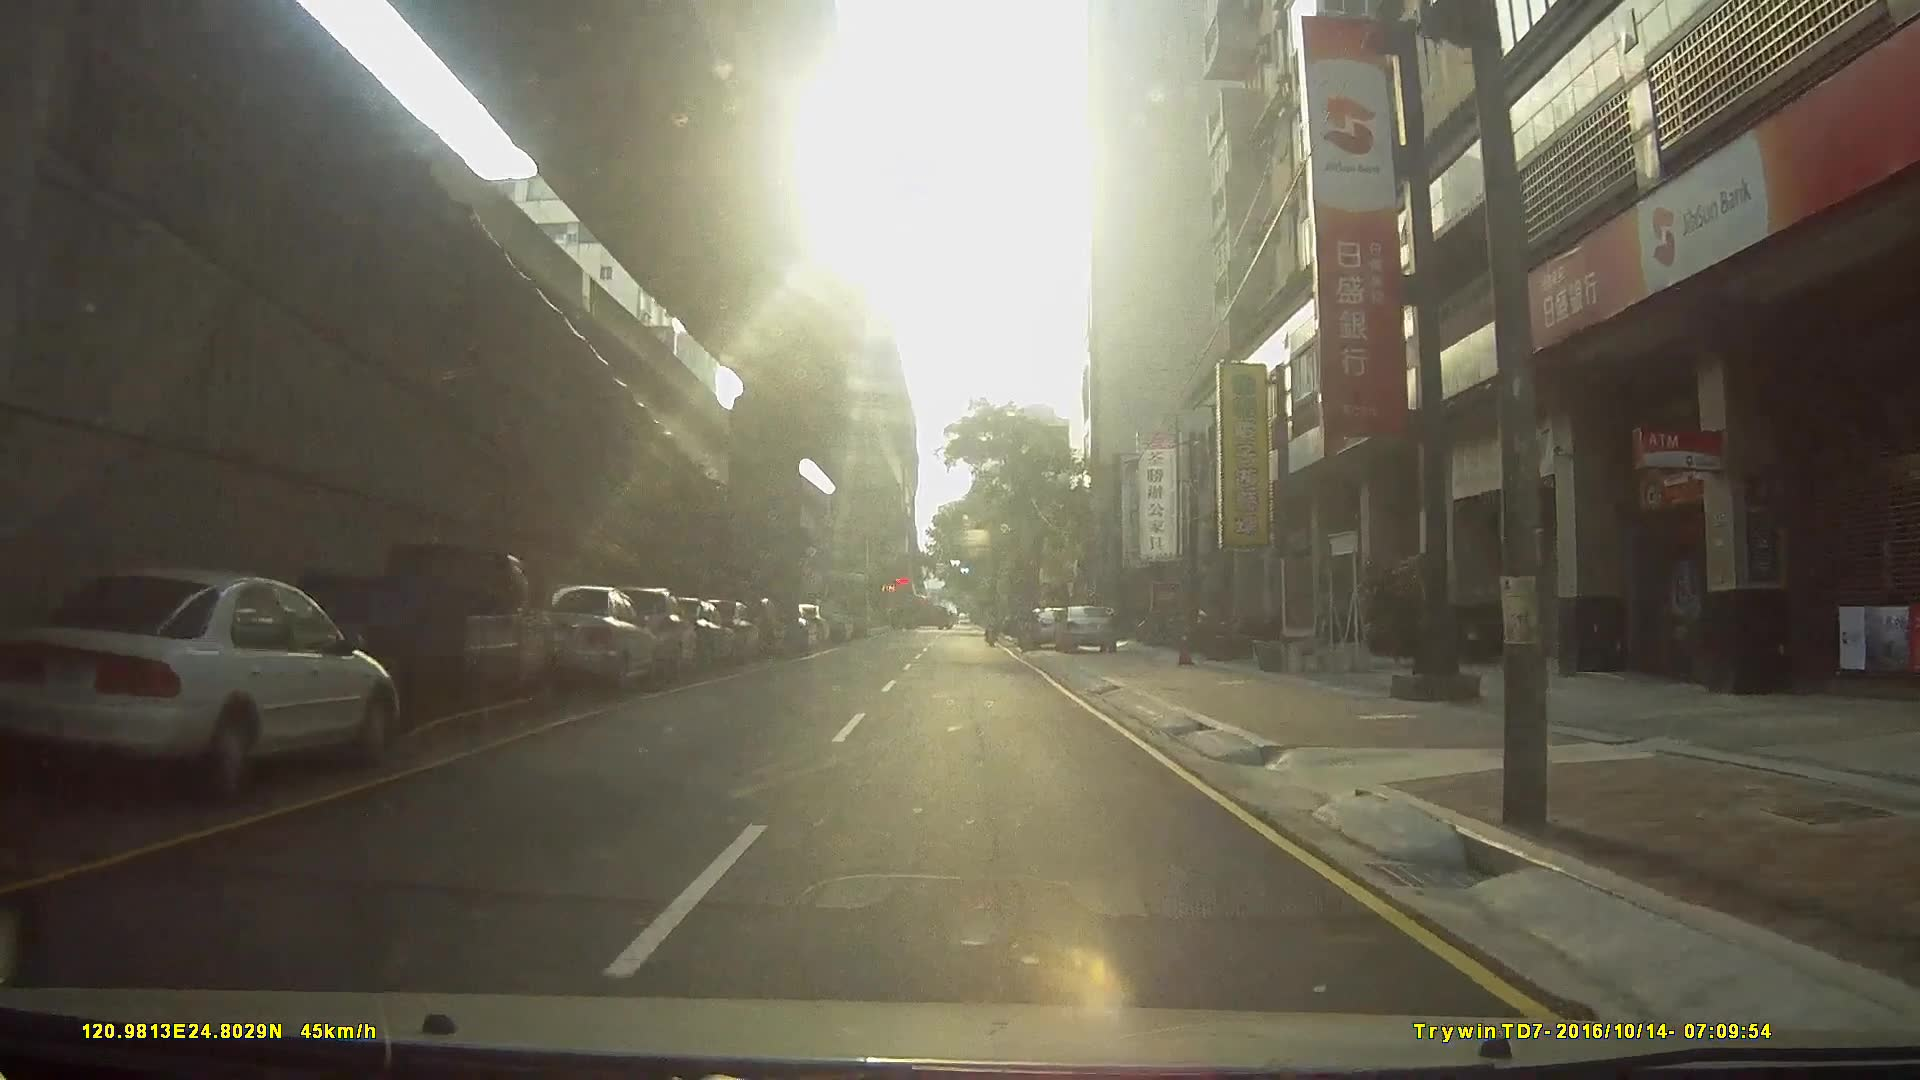vehicle: (0, 568, 400, 803), (295, 538, 553, 735), (506, 583, 661, 702), (597, 612, 729, 700), (659, 620, 794, 670), (1051, 604, 1120, 655)
